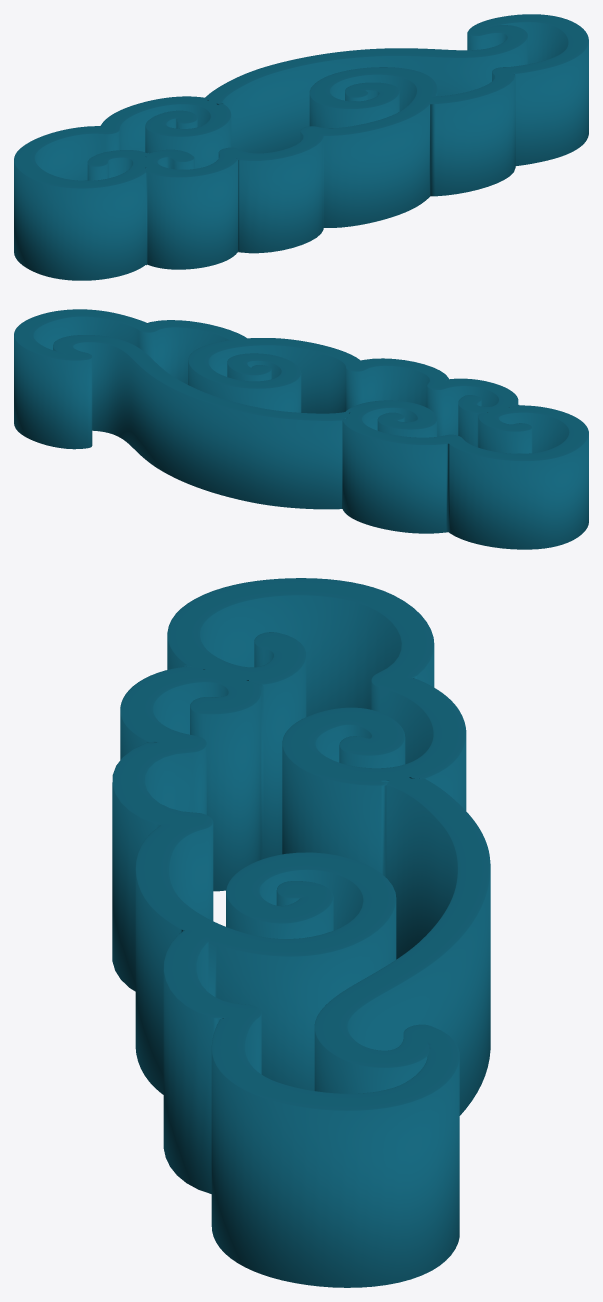
File: Cloud.fbx
3 renders of one model, top to bottom at view 1: azimuth 30°, elevation 25°; view 2: azimuth 150°, elevation 25°; view 3: azimuth 270°, elevation 25°, orthographic. The views are drawn at different scales.
Visible parts, largest first — view 1: path40; view 2: path40; view 3: path40.
Boxes of the visible parts, bbox=[...] form: path40: bbox=[14, 14, 588, 280]; path40: bbox=[14, 309, 588, 549]; path40: bbox=[112, 578, 490, 1287].
Bounding box in the file's own units: 445841 × 69100 × 133690.
